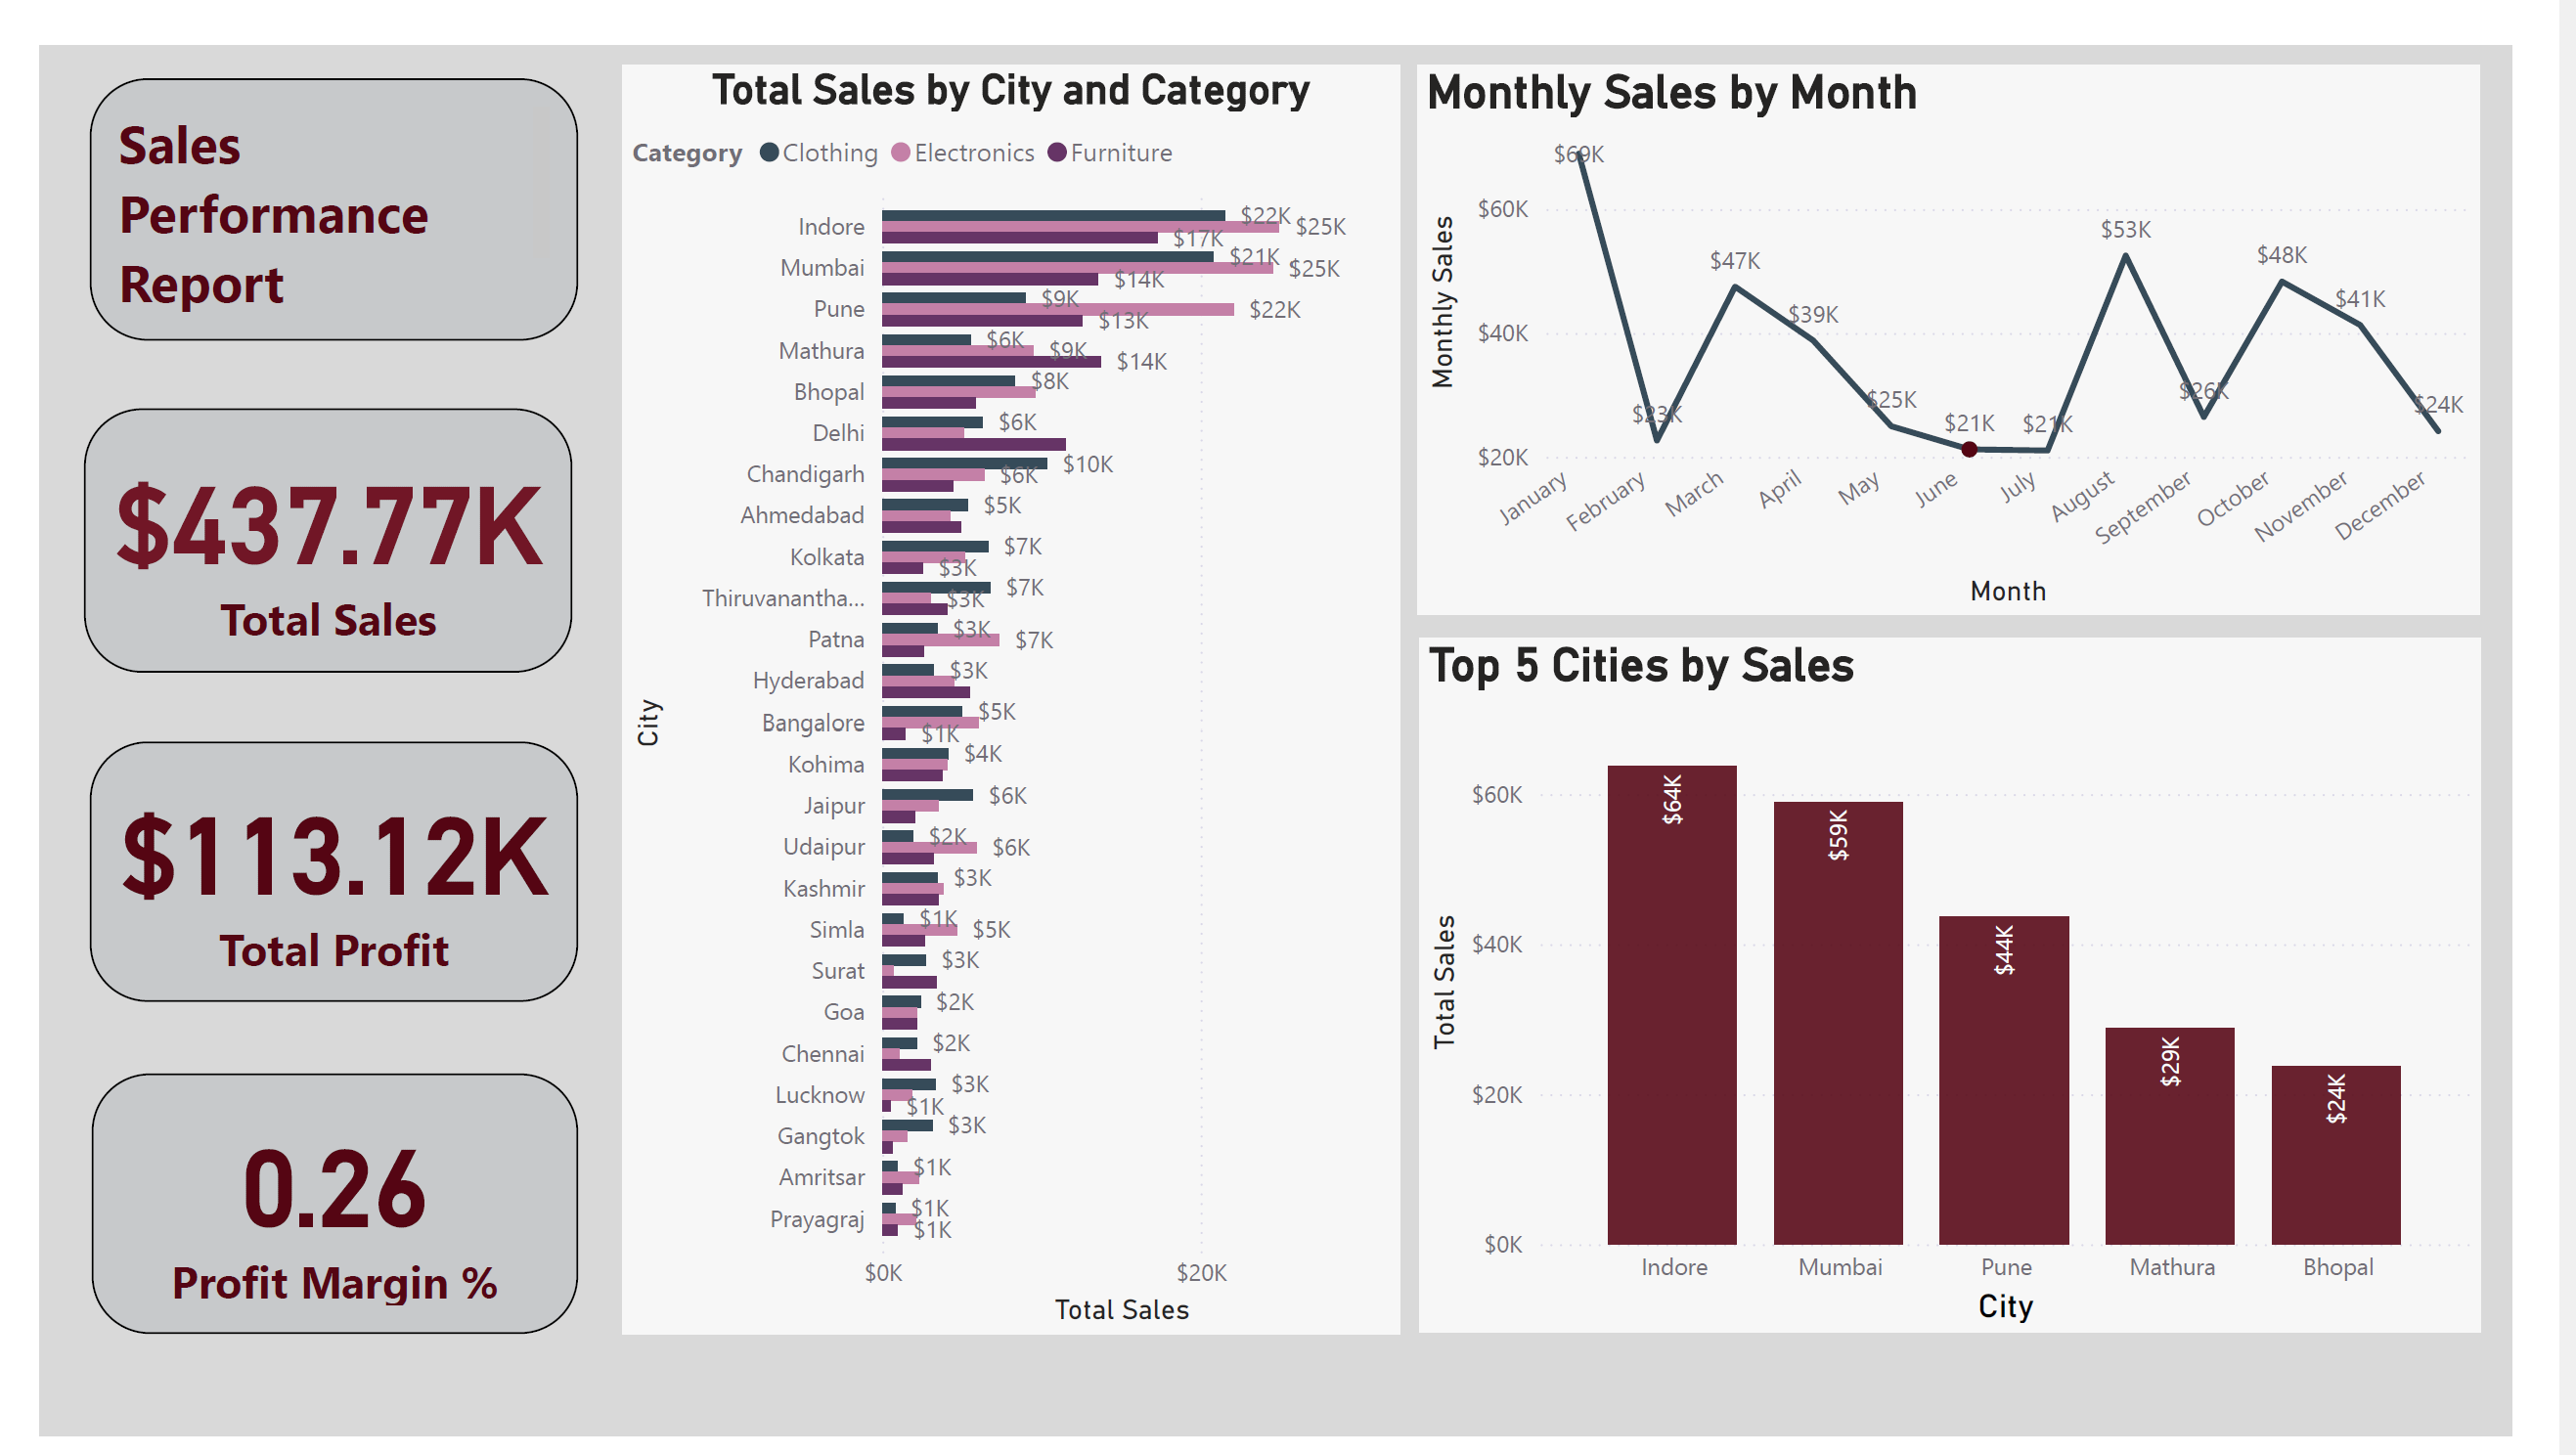

The dashboard page shown, as its layout file describes it:
{"tool":"powerbi","page":{"name":"Sales Performance Report Dashboard","canvas":[1280,720],"ordinal":0},"visuals":[{"type":"card","fields":{"Values":["Orders.Total Profit"]},"box":[26.1,359.8,252.9,135.6],"z":0},{"type":"card","fields":{"Values":["Orders.Total Sales"]},"box":[23.5,187.7,252.9,136.9],"z":1000},{"type":"textbox","box":[26.1,16.9,252.9,136],"z":2000},{"type":"card","fields":{"Values":["Orders.Profit Margin %"]},"box":[27.4,531.8,251.6,135.6],"z":3000},{"type":"clusteredBarChart","fields":{"Y":["Orders.Total Sales"],"Category":["Orders.City"],"Series":["Details.Category"]},"box":[302.4,10.4,401.5,656.9],"z":4000},{"type":"lineChart","fields":{"Category":["DateTable.Month"],"Y":["Details.Monthly Sales"]},"box":[713,10.4,550.1,284.2],"z":5000},{"type":"columnChart","title":"Top 5 Cities by Sales ","fields":{"Y":["Orders.Total Sales"],"Category":["Orders.City"]},"box":[713.7,306.8,550.1,359.5],"z":6000}]}

Visuals, with their boxes in screenshot pixels (x1, y1, x2, y2), scaled from the page's 1280x720 canvas onto the 2576x1455 screenshot:
card - Orders.Total Profit: [53, 727, 561, 1001]
card - Orders.Total Sales: [47, 379, 556, 656]
textbox: [53, 34, 561, 309]
card - Orders.Profit Margin %: [55, 1075, 561, 1348]
clusteredBarChart - Orders.Total Sales x Orders.City: [608, 21, 1416, 1348]
lineChart - DateTable.Month x Details.Monthly Sales: [1435, 21, 2542, 595]
"Top 5 Cities by Sales " columnChart: [1437, 620, 2544, 1346]
